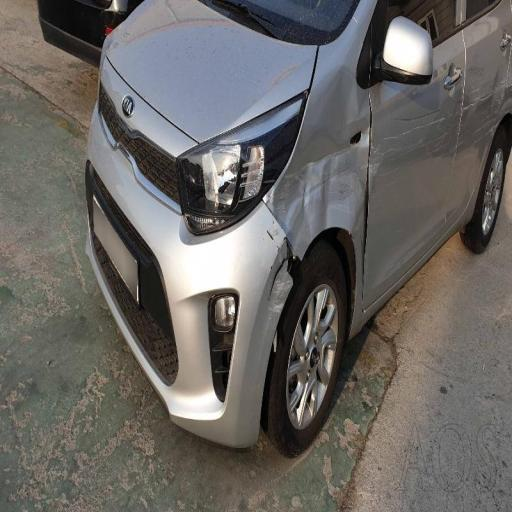broken: (256, 236, 316, 318), (336, 103, 388, 182)
dent: (271, 148, 380, 240)
scratch: (397, 100, 498, 181)
